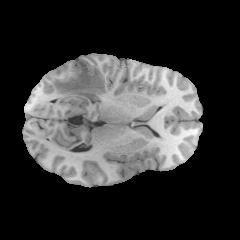glioma: (51, 60, 105, 100)
